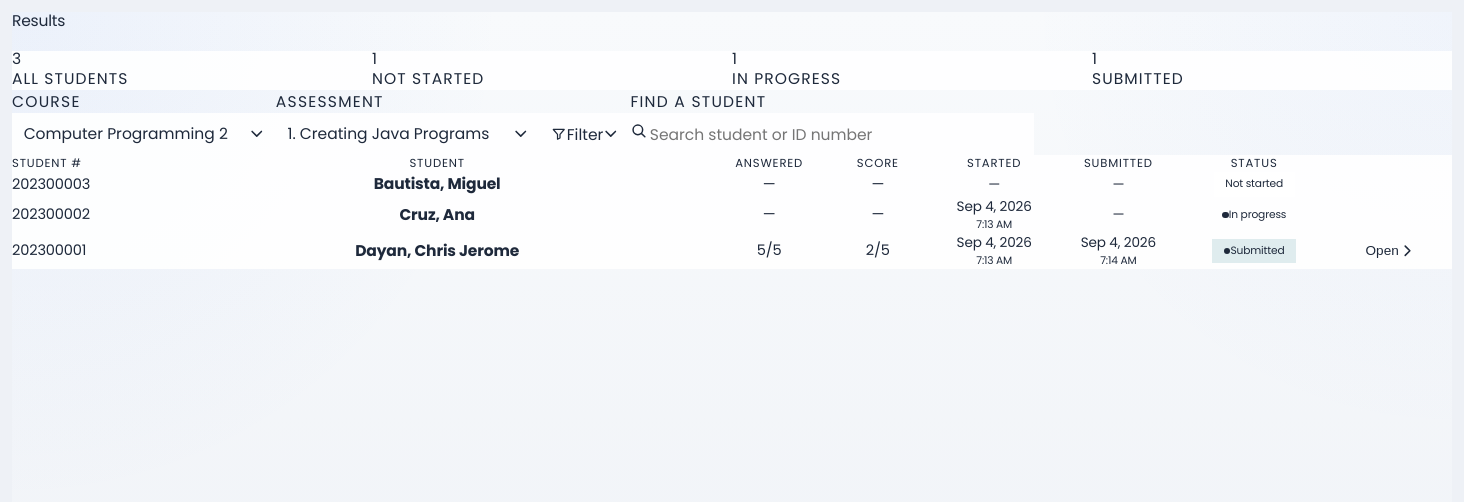
Test: opening one student's paper › opens off the row of a student who has handed the paper in
The width and height of the screenshot is (1464, 502).
Expected: the text "Dayan, Chris Jerome" is shown, [355, 240, 519, 260]
Click the button "Open". click: (1390, 251)
box: [1354, 237, 1426, 264]
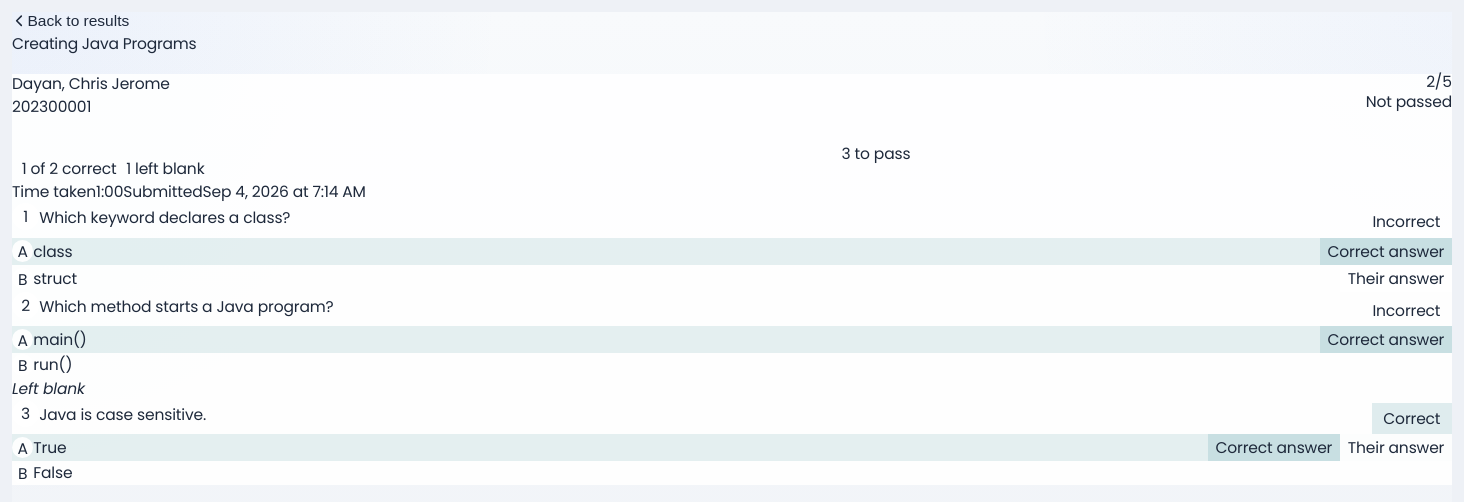
Expected: the element showing "2/5" is shown, [1426, 71, 1452, 92]
Result: the text "Which keyword declares a class?" is shown at [39, 207, 290, 228]
